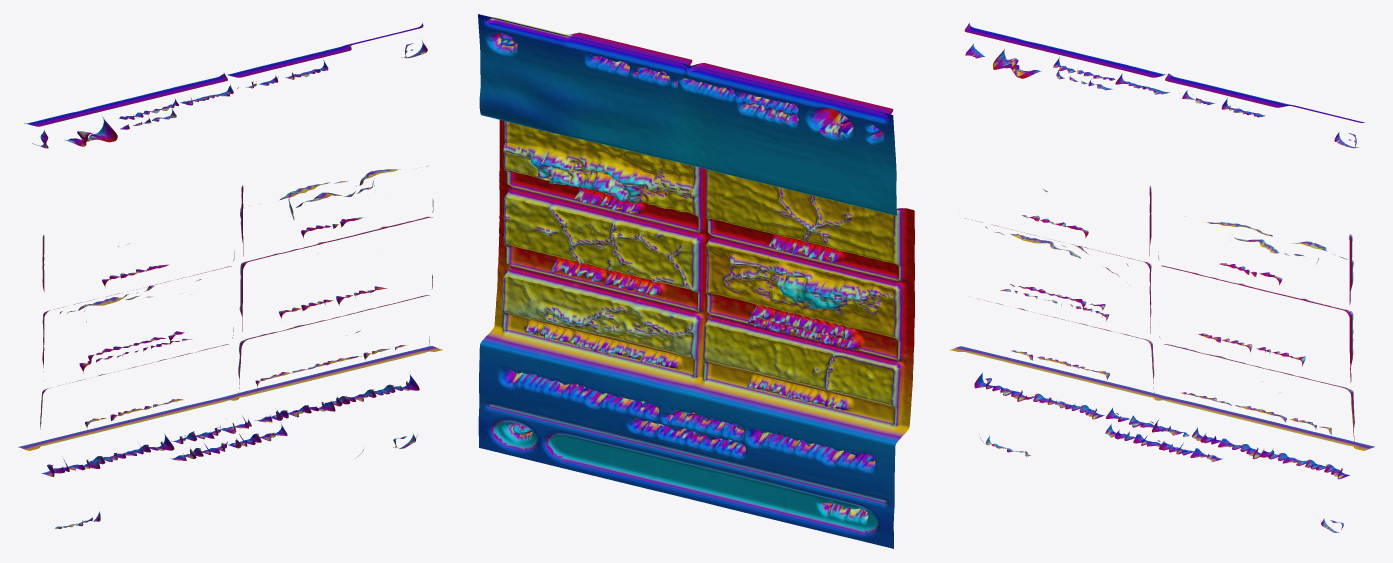
3 renders of one model, left to right at view 1: azimuth 30°, elevation 25°; view 2: azimuth 150°, elevation 25°; view 3: azimuth 330°, elevation 25°, orthographic.
Visible parts, largest first — view 1: world; view 2: world; view 3: world.
Part boxes in pixels (x1,y1,x2,y2): world: (18,23,442,528); world: (478,14,914,548); world: (950,23,1374,532).
Size of the model in its own units: 299 by 299 by 29.
